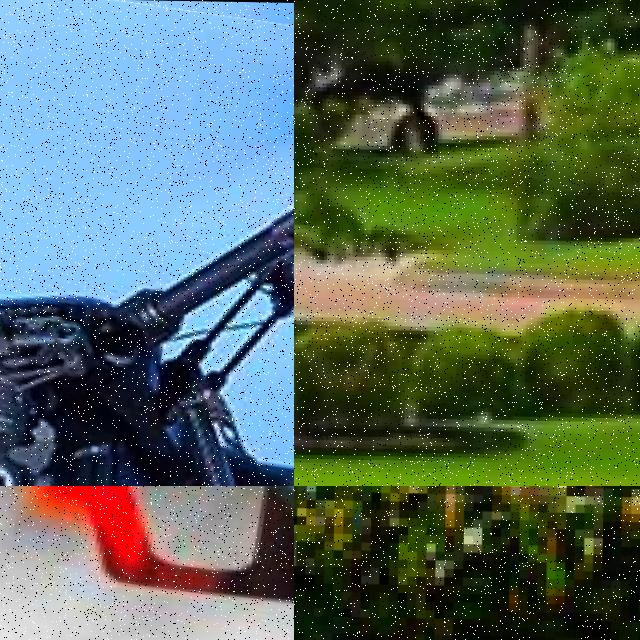drone: (0, 0, 294, 486), (0, 486, 294, 640)
